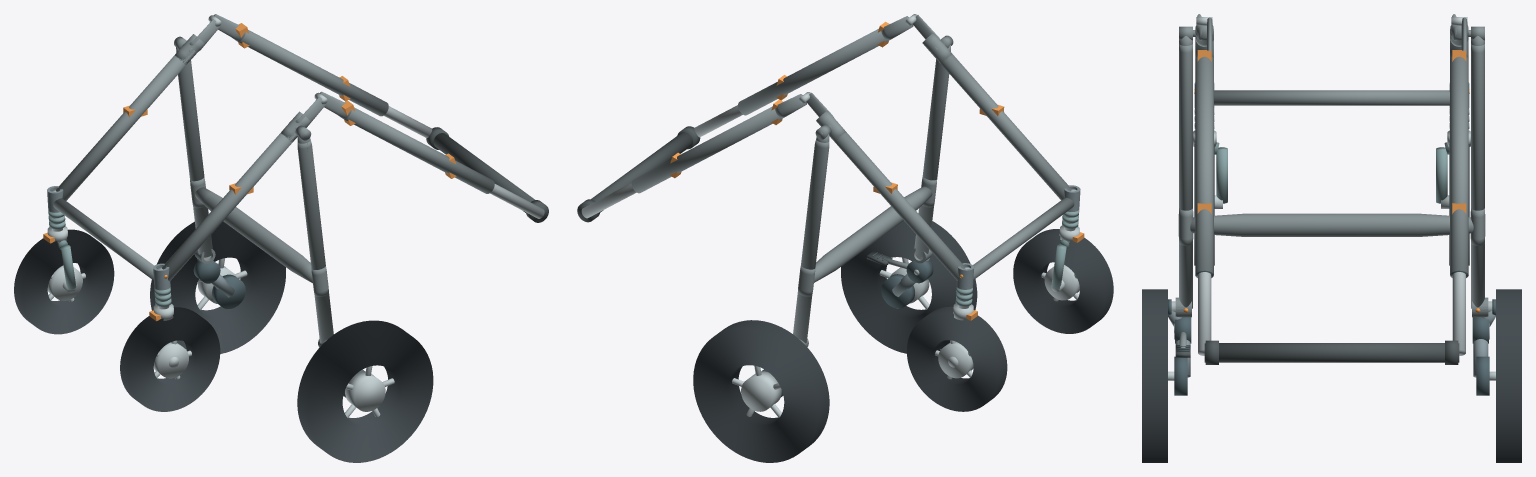
Rendered from w550_state2.glb.
The picture shows the model from 3 angles, left to right: view 1: azimuth 30°, elevation 25°; view 2: azimuth 150°, elevation 25°; view 3: azimuth 270°, elevation 25°; orthographic projection. The views are drawn at different scales.
Visible parts, largest first — view 1: RL_tire.003, RR_tire.003, FL_tire.003, FR_tire.003, main_lower_1.004, main_lower_-1.004, V46_rear_leg_-1.004, main_upper_1.004, main_upper_-1.004, V46_rearbar.004, V46_rear_leg_1.004, front_fixed_round_tube.003 (+7 smaller); view 2: RR_tire.003, RL_tire.003, FR_tire.003, FL_tire.003, main_lower_-1.004, main_lower_1.004, V46_rear_leg_1.004, main_upper_-1.004, main_upper_1.004, V46_rearbar.004, V46_rear_leg_-1.004, front_fixed_round_tube.003 (+7 smaller); view 3: V46_rearbar.004, round_handle.003, RL_tire.003, RR_tire.003, main_upper_1.004, main_upper_-1.004, front_fixed_round_tube.003, V46_rear_leg_1.004, V46_rear_leg_-1.004, handle_slider_1.003, handle_slider_-1.003, FL_fork.003 (+6 smaller).
Part boxes in pixels (bbox=[...]): RL_tire.003: bbox=[297, 320, 433, 462]; RR_tire.003: bbox=[150, 221, 285, 353]; FL_tire.003: bbox=[120, 307, 220, 411]; FR_tire.003: bbox=[14, 229, 114, 334]; main_lower_1.004: bbox=[56, 50, 195, 200]; main_lower_-1.004: bbox=[162, 133, 296, 281]; V46_rear_leg_-1.004: bbox=[297, 140, 333, 343]; main_upper_1.004: bbox=[237, 30, 388, 116]; main_upper_-1.004: bbox=[344, 107, 494, 193]; V46_rearbar.004: bbox=[195, 187, 312, 283]; V46_rear_leg_1.004: bbox=[178, 60, 212, 257]; front_fixed_round_tube.003: bbox=[53, 198, 154, 280]; RR_tire.003: bbox=[693, 320, 829, 462]; RL_tire.003: bbox=[841, 221, 977, 353]; FR_tire.003: bbox=[907, 306, 1007, 411]; FL_tire.003: bbox=[1013, 229, 1113, 333]; main_lower_-1.004: bbox=[932, 49, 1071, 200]; main_lower_1.004: bbox=[830, 132, 965, 280]; V46_rear_leg_1.004: bbox=[793, 139, 829, 343]; main_upper_-1.004: bbox=[738, 28, 888, 115]; main_upper_1.004: bbox=[631, 106, 782, 193]; V46_rearbar.004: bbox=[814, 186, 932, 282]; V46_rear_leg_-1.004: bbox=[914, 59, 949, 257]; front_fixed_round_tube.003: bbox=[973, 197, 1074, 279]; V46_rearbar.004: bbox=[1190, 213, 1473, 236]; round_handle.003: bbox=[1204, 343, 1459, 362]; RL_tire.003: bbox=[1142, 289, 1167, 462]; RR_tire.003: bbox=[1496, 289, 1521, 462]; main_upper_1.004: bbox=[1450, 56, 1468, 277]; main_upper_-1.004: bbox=[1195, 56, 1213, 277]; front_fixed_round_tube.003: bbox=[1214, 90, 1449, 105]; V46_rear_leg_1.004: bbox=[1471, 44, 1484, 308]; V46_rear_leg_-1.004: bbox=[1179, 44, 1192, 308]; handle_slider_1.003: bbox=[1452, 272, 1465, 355]; handle_slider_-1.003: bbox=[1198, 272, 1211, 355]; FL_fork.003: bbox=[1216, 147, 1227, 203].
Size of the model in its own units: 1.02 by 0.81 by 0.656.
